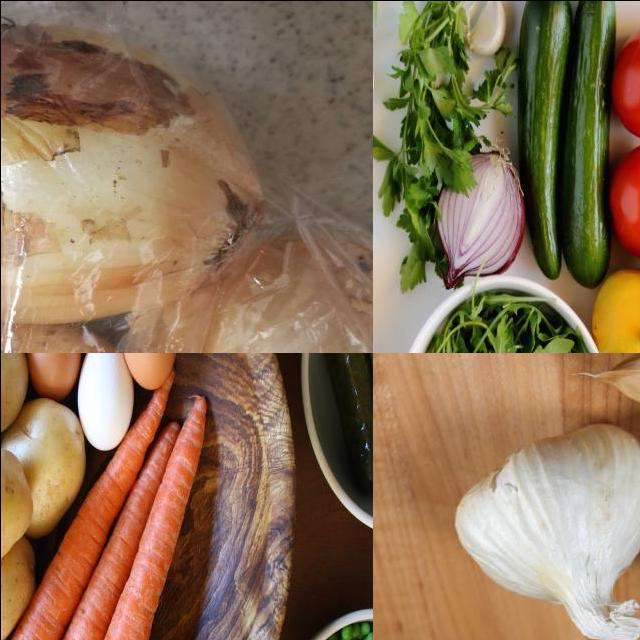cucumber: (520, 1, 564, 274), (574, 1, 611, 281)
egg: (81, 353, 132, 447), (127, 353, 181, 396), (34, 353, 75, 395)
garlic: (450, 416, 640, 640), (587, 353, 640, 432)
onion: (1, 32, 264, 327), (152, 232, 373, 353), (438, 153, 519, 283)
potato: (1, 456, 30, 567), (1, 557, 25, 640)
tomato: (609, 147, 640, 254), (614, 25, 640, 138)
